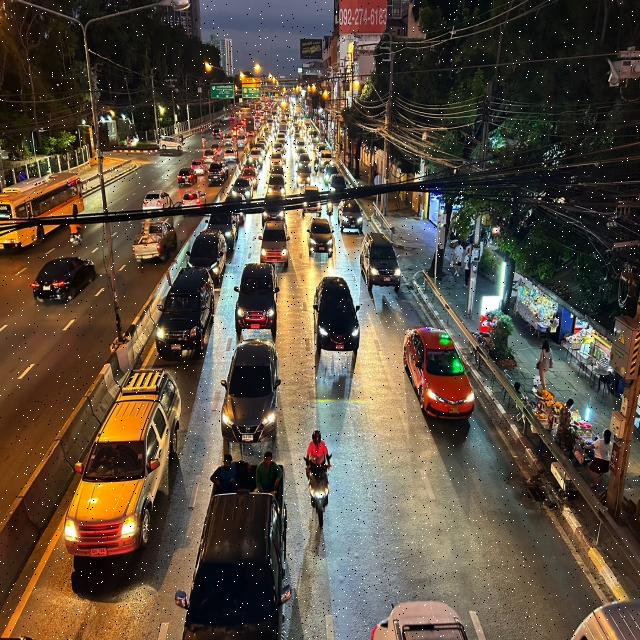bike: (299, 420, 340, 530)
